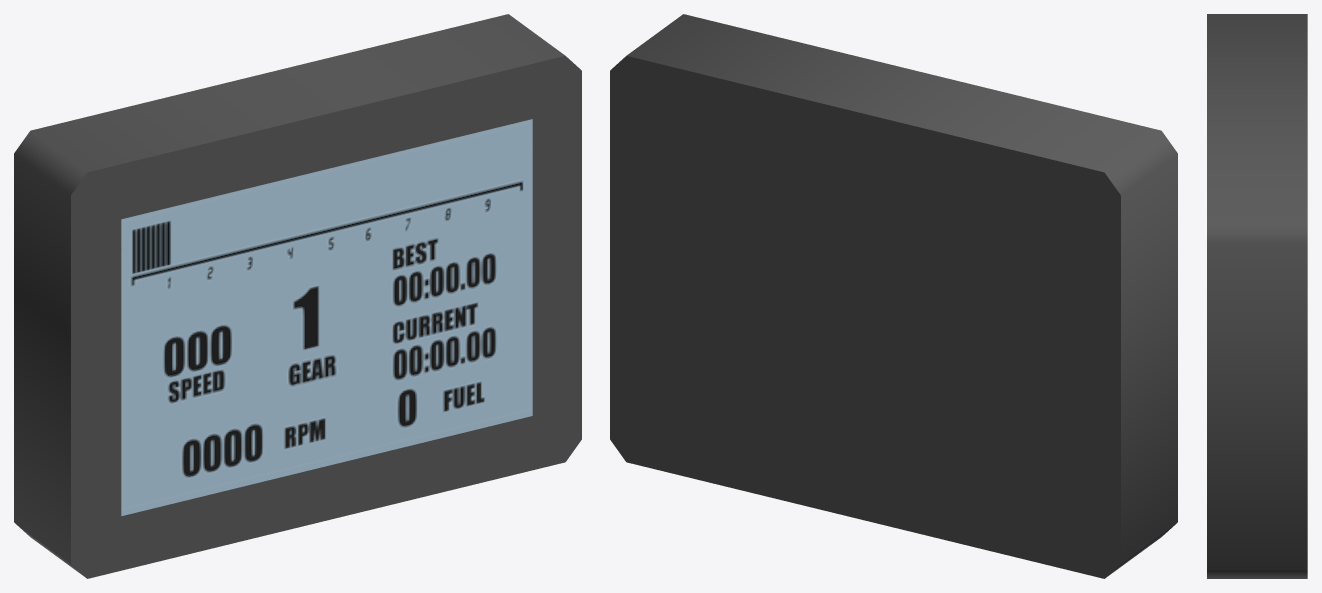
3 renders of one model, left to right at view 1: azimuth 30°, elevation 25°; view 2: azimuth 150°, elevation 25°; view 3: azimuth 270°, elevation 25°, orthographic. The views are drawn at different scales.
Visible parts, largest first — view 1: RD02_LOW; view 2: RD02_LOW; view 3: RD02_LOW.
Part boxes in pixels (x1,y1,x2,y2): RD02_LOW: [14, 14, 581, 578]; RD02_LOW: [610, 14, 1177, 578]; RD02_LOW: [1207, 14, 1307, 578].
Bounding box in the file's own units: 0.1401 × 0.1065 × 0.0273.
